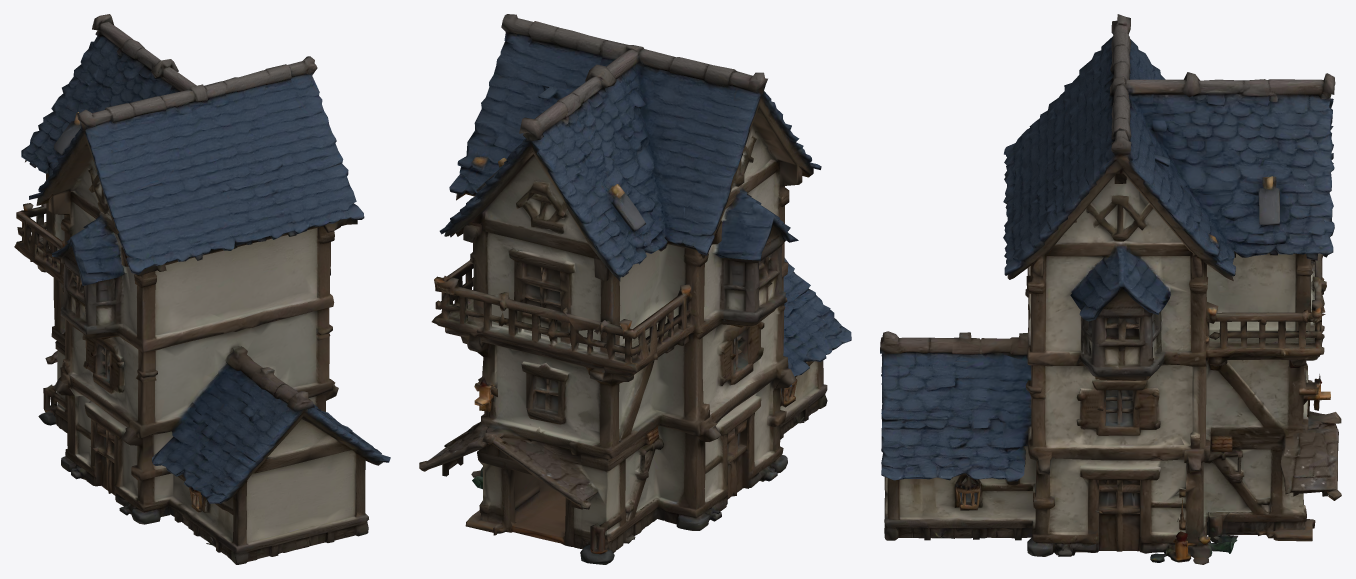
Rendered from townMerchantHouse.glb.
3 views of the same model, side by side, from view 1: azimuth 30°, elevation 25°; view 2: azimuth 150°, elevation 25°; view 3: azimuth 270°, elevation 25° (orthographic). The views are drawn at different scales.
Visible parts, largest first — view 1: pb_node; view 2: pb_node; view 3: pb_node.
Boxes of the visible parts, bbox=[...] form: pb_node: bbox=[14, 14, 390, 564]; pb_node: bbox=[419, 14, 851, 564]; pb_node: bbox=[880, 14, 1341, 564].
Bounding box in the file's own units: 0.6952 × 1 × 0.965.
Materials: 1 (1 with a texture image).
